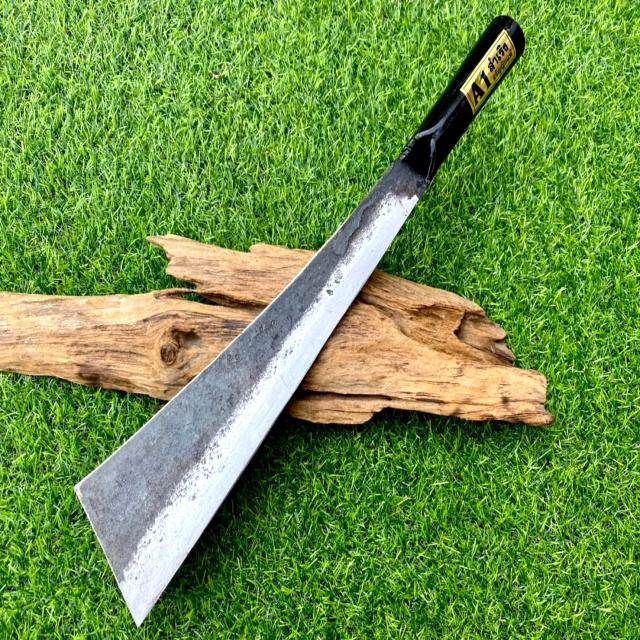eto: (69, 5, 537, 640)
